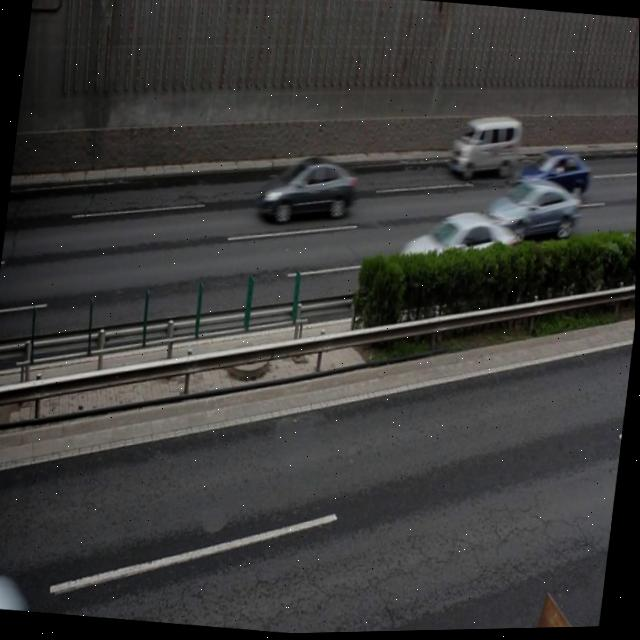car: (393, 207, 519, 300), (479, 176, 581, 251), (258, 155, 358, 231), (518, 147, 591, 205), (0, 565, 28, 611)
truck: (445, 115, 521, 187)
